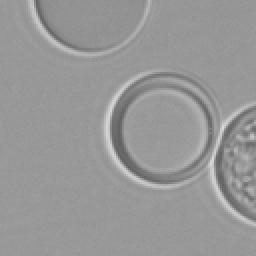picoshell: (104, 72, 218, 188), (28, 0, 150, 56), (210, 104, 254, 224)
